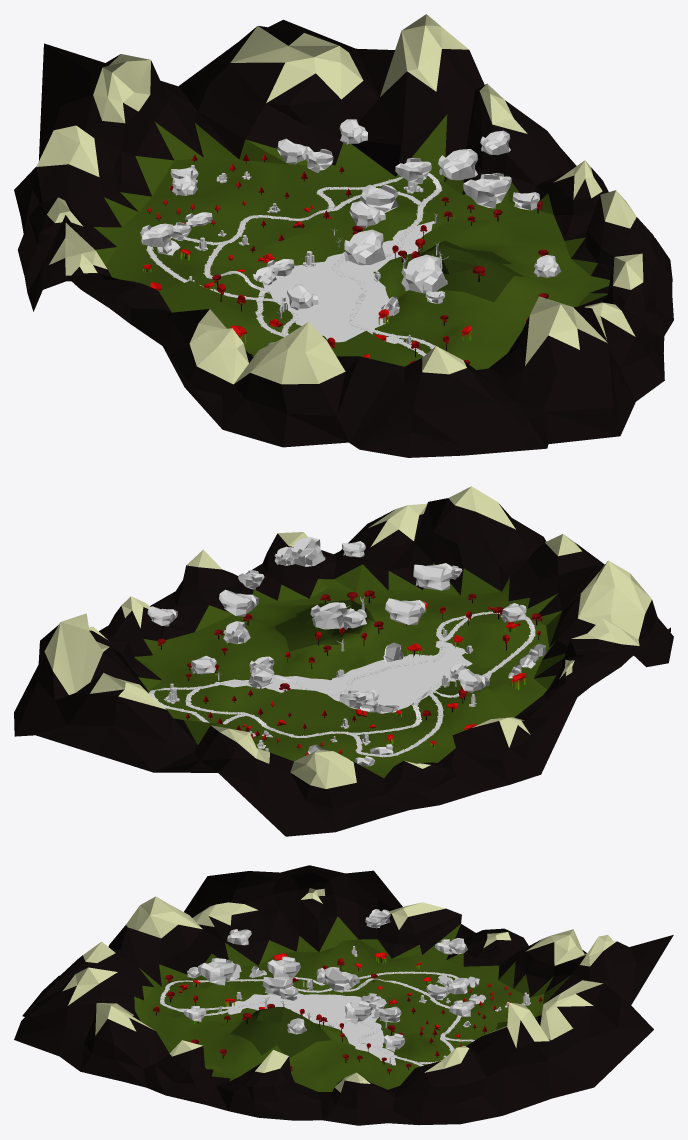
File: TrackFinal1.FBX
The picture shows the model from 3 angles, top to bottom: view 1: azimuth 30°, elevation 25°; view 2: azimuth 150°, elevation 25°; view 3: azimuth 270°, elevation 25°; orthographic projection. The views are drawn at different scales.
Parts seen in each view (by area): view 1: Land, AllClouds, WaterPlane, MainTrack, AllRocksNatural, AllRocks, AllArbre3boules, AllArbrePeuplier, AllSapin; view 2: Land, AllClouds, WaterPlane, MainTrack, AllRocksNatural, AllArbre3boules, AllRocks, AllArbrePeuplier; view 3: Land, AllClouds, WaterPlane, MainTrack, AllRocksNatural, AllArbre3boules, AllRocks, AllArbrePeuplier.
Part boxes in pixels (<box>): Land: <box>14,14,673,457</box>; AllClouds: <box>141,119,560,310</box>; WaterPlane: <box>263,221,434,343</box>; MainTrack: <box>146,172,442,356</box>; AllRocksNatural: <box>140,212,399,345</box>; AllRocks: <box>188,165,423,346</box>; AllArbre3boules: <box>212,197,548,364</box>; AllArbrePeuplier: <box>143,249,472,358</box>; AllSapin: <box>147,153,351,252</box>; Land: <box>14,486,673,836</box>; AllClouds: <box>147,536,526,709</box>; WaterPlane: <box>214,641,472,709</box>; MainTrack: <box>149,611,535,757</box>; AllRocksNatural: <box>308,642,546,766</box>; AllArbre3boules: <box>157,590,542,720</box>; AllRocks: <box>163,628,476,751</box>; AllArbrePeuplier: <box>387,601,525,748</box>; Land: <box>14,865,673,1125</box>; AllClouds: <box>184,909,474,1051</box>; WaterPlane: <box>228,993,395,1065</box>; MainTrack: <box>160,971,474,1066</box>; AllRocksNatural: <box>227,959,485,1009</box>; AllArbre3boules: <box>153,974,411,1074</box>; AllRocks: <box>218,946,530,1059</box>; AllArbrePeuplier: <box>193,952,431,1023</box>.
Size of what is drawn, in the model's own units: 111662 by 26143 by 152773.
